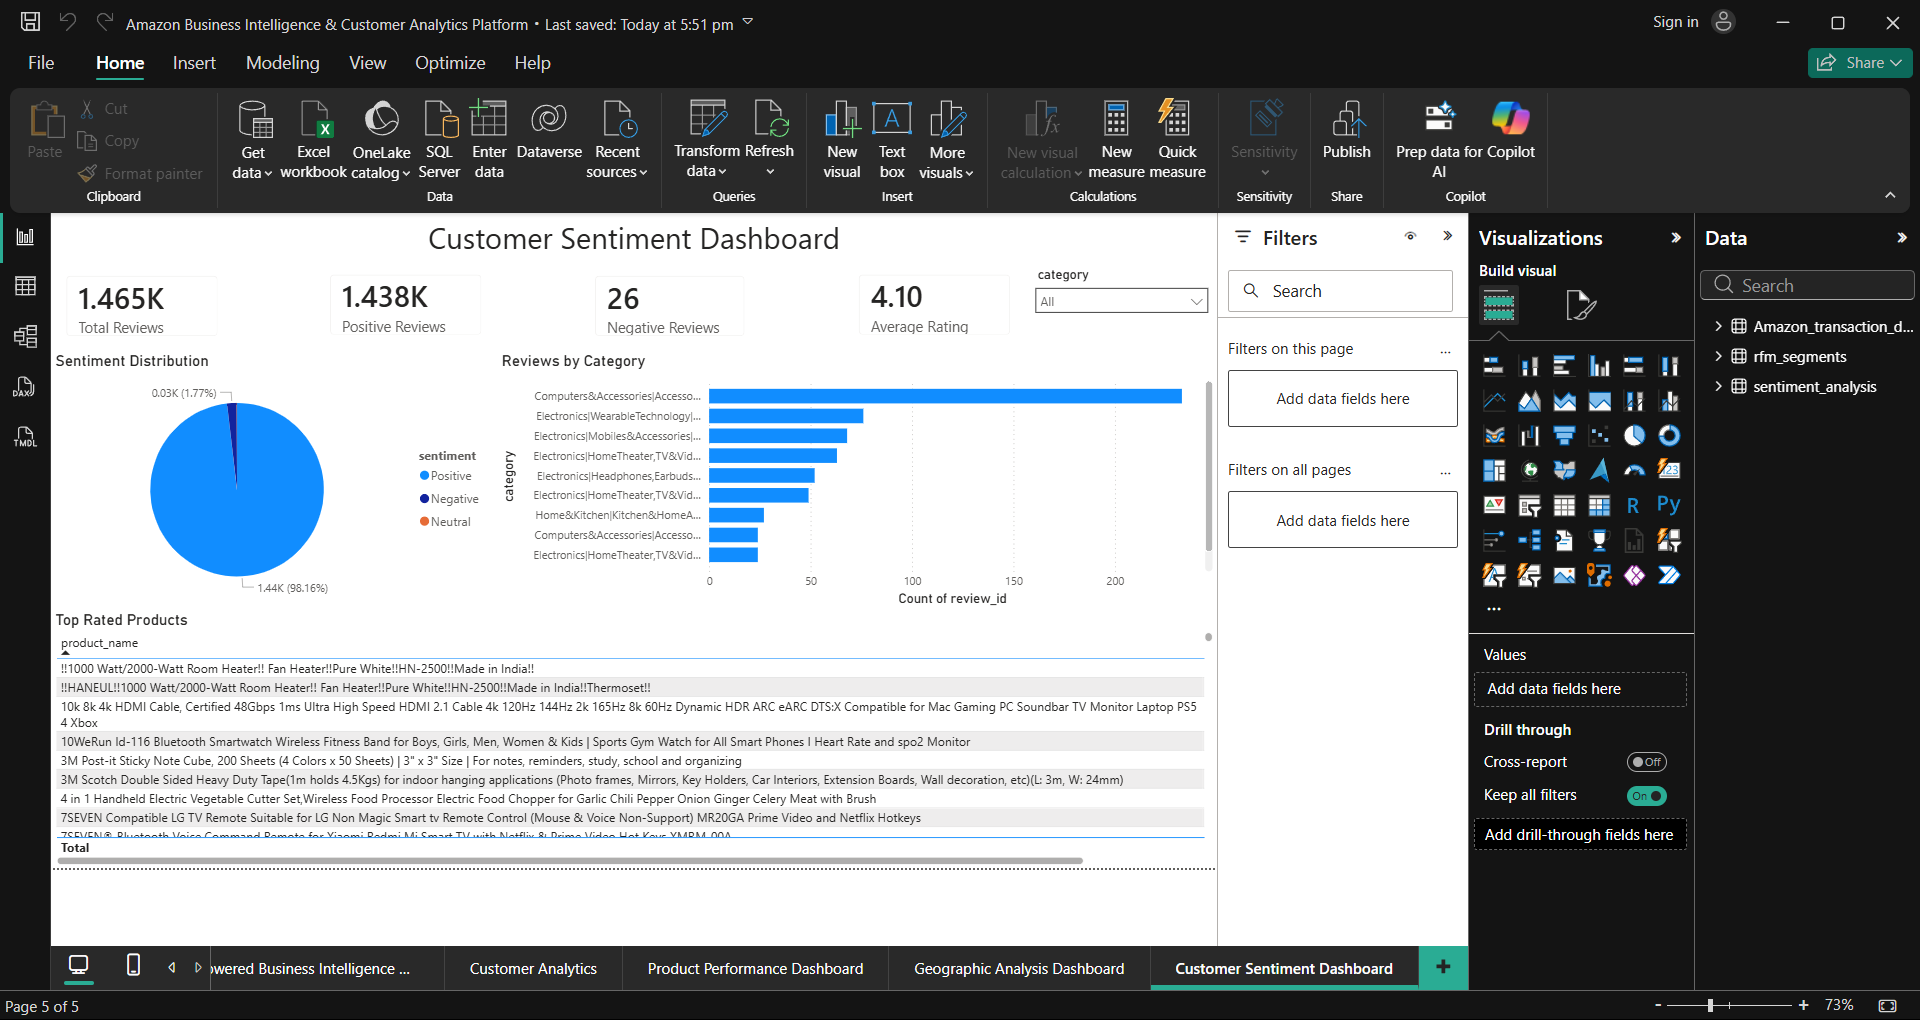

This screenshot's page, from the dashboard's own definition file:
{"tool":"powerbi","page":{"name":"Customer Sentiment Dashboard","canvas":[1280,720],"ordinal":4},"visuals":[{"type":"textbox","box":[0,0,1280.3,52.1],"z":0},{"type":"cardVisual","fields":{"Data":["CountNonNull(sentiment_analysis.review_id)"]},"box":[0,52.1,200,100],"z":1000},{"type":"cardVisual","fields":{"Data":["CountNonNull(sentiment_analysis.review_id)"]},"box":[290.2,50.8,200.3,100.2],"z":2000},{"type":"cardVisual","fields":{"Data":["CountNonNull(sentiment_analysis.review_id)"]},"box":[580.8,52.1,199,100.2],"z":3000},{"type":"cardVisual","fields":{"Data":["Avg(sentiment_analysis.rating)"]},"box":[870,50.8,200.3,100.2],"z":4000},{"type":"pieChart","title":"Sentiment Distribution","fields":{"Category":["sentiment_analysis.sentiment"],"Y":["CountNonNull(sentiment_analysis.review_id)"]},"box":[0,152.3,489.9,284],"z":5000},{"type":"clusteredBarChart","title":"Reviews by Category","fields":{"Category":["sentiment_analysis.category"],"Y":["CountNonNull(sentiment_analysis.review_id)"]},"box":[489.9,152.3,790.4,284],"z":6000},{"type":"tableEx","title":"Top Rated Products","fields":{"Values":["sentiment_analysis.product_name","Sum(sentiment_analysis.rating)","Sum(sentiment_analysis.rating_count)"]},"box":[0,436.4,1280.3,284],"z":7000},{"type":"slicer","fields":{"Values":["sentiment_analysis.category"]},"box":[1070.3,53.5,209.9,59],"z":8000}]}

Visuals, with their boxes on the page's 1280x720 design canvas (x1, y1, x2, y2). These are canvas units, not pixel positions in the 1920x1020 screenshot, which may show the page scaled, cropped or inside an application window:
textbox: 0/0/1280/52
cardVisual - CountNonNull(sentiment_analysis.review_id): 0/52/200/152
cardVisual - CountNonNull(sentiment_analysis.review_id): 290/51/490/151
cardVisual - CountNonNull(sentiment_analysis.review_id): 581/52/780/152
cardVisual - Avg(sentiment_analysis.rating): 870/51/1070/151
"Sentiment Distribution" pieChart: 0/152/490/436
"Reviews by Category" clusteredBarChart: 490/152/1280/436
"Top Rated Products" tableEx: 0/436/1280/720
slicer - sentiment_analysis.category: 1070/54/1280/112
